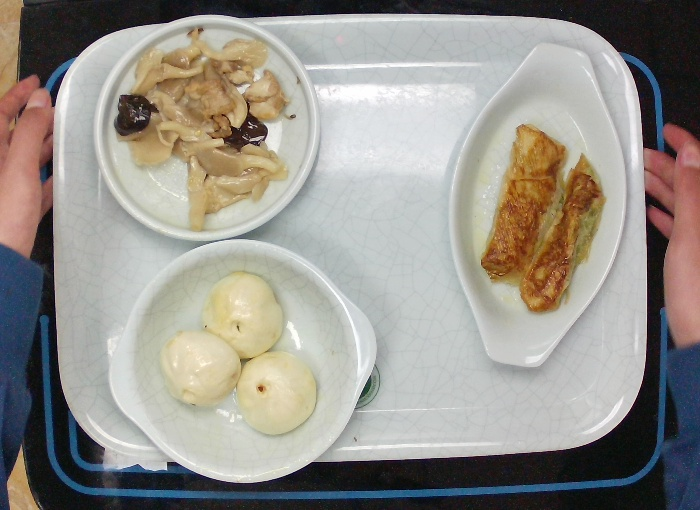JYsf-Shuang_Er_Wan: (105, 232, 381, 484)
JYsf-Xiao_Yuan_Pan: (87, 11, 324, 245)
JYsf-Yu_Pan: (442, 38, 631, 371)
